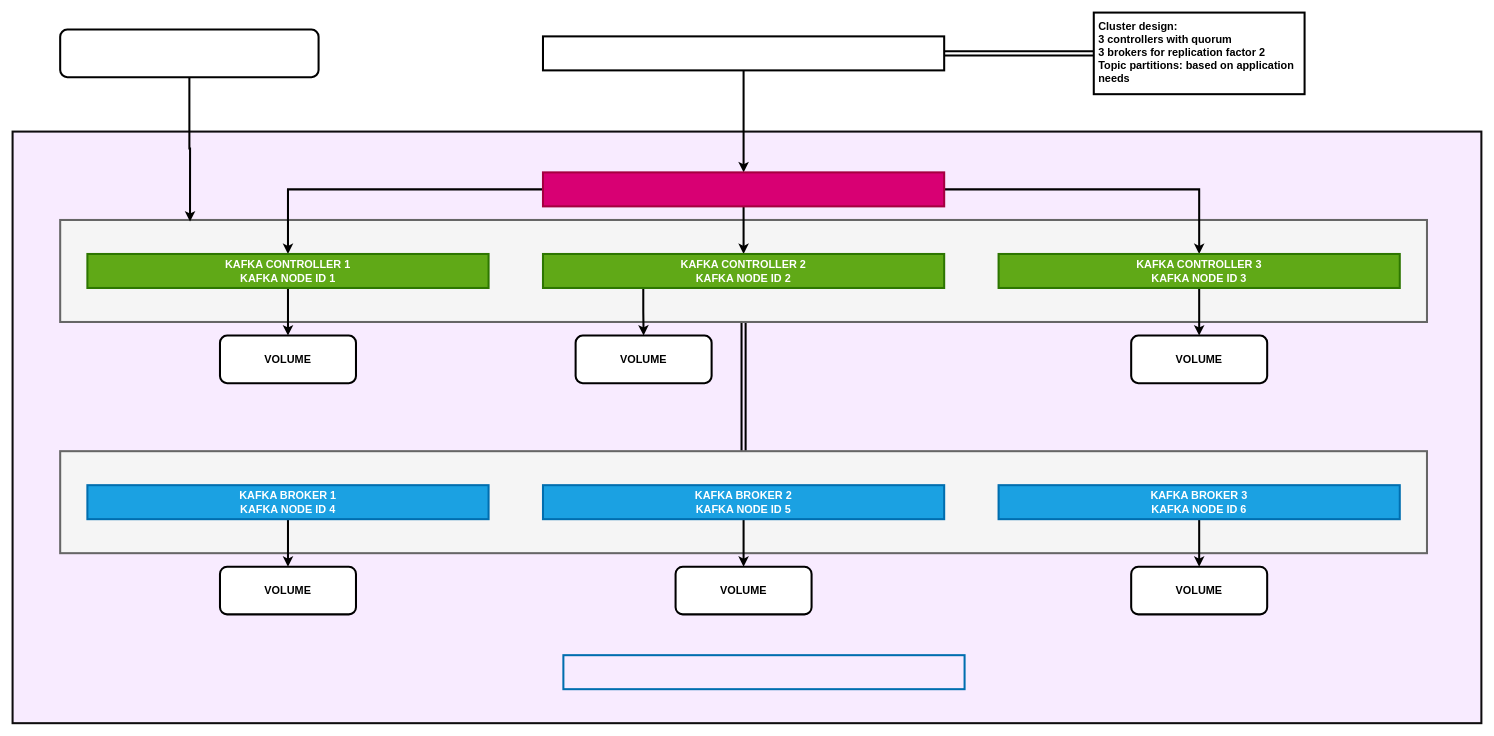
The diagram is 1494 pixels wide and 736 high, and some of its shapes have lost their labels. Here are the shapes that lost their labels. From the top down, the centre of each, then its label:
the point at 189,53: Communication channel: CONTROLLER
the point at 743,53: KAFKA TOPOLOGY SETUP
the point at 743,189: DOCKER COMPOSE: KRAFT CLUSTER
the point at 763,672: NETWORK: kafka-net
